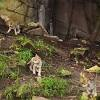Lobo: (25, 53, 50, 79), (4, 14, 26, 37)
